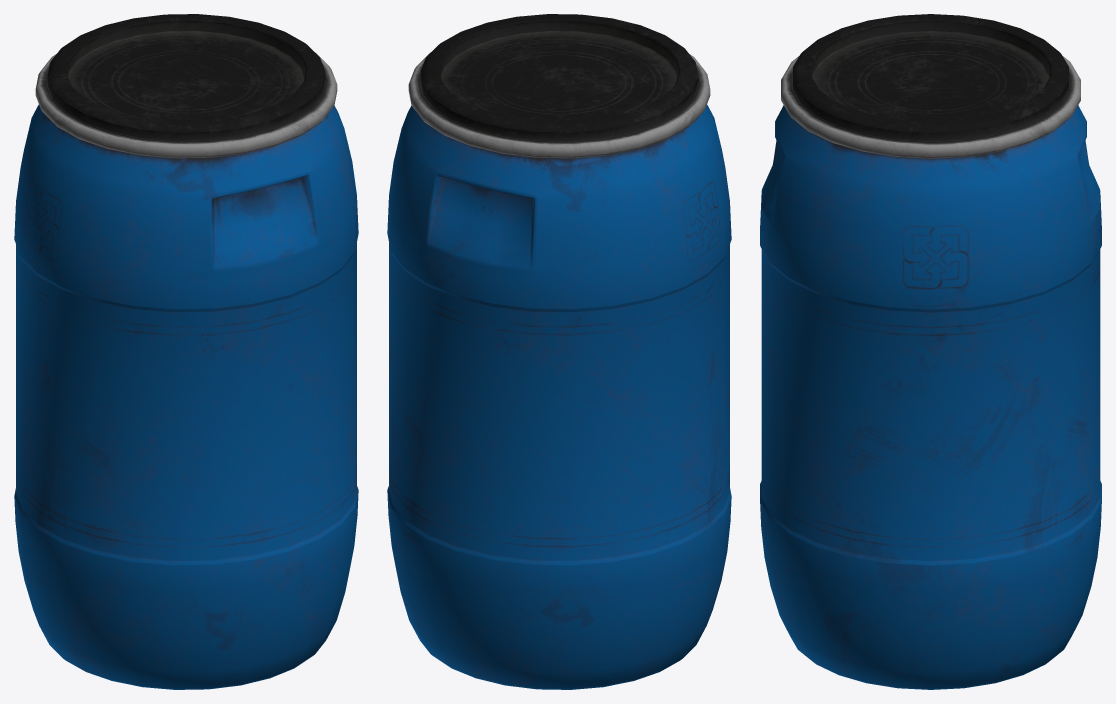
The model's file is barrel_1.glb.
The picture shows the model from 3 angles, left to right: view 1: azimuth 30°, elevation 25°; view 2: azimuth 150°, elevation 25°; view 3: azimuth 270°, elevation 25°; orthographic projection.
Visible parts, largest first — view 1: Barrel_02; view 2: Barrel_02; view 3: Barrel_02.
Part boxes in pixels (bbox=[...]): Barrel_02: bbox=[14, 14, 358, 689]; Barrel_02: bbox=[387, 14, 731, 689]; Barrel_02: bbox=[760, 14, 1101, 689].
Bounding box in the file's own units: 0.4882 × 0.88 × 0.4846.
Materials: 1 (1 with a texture image).
